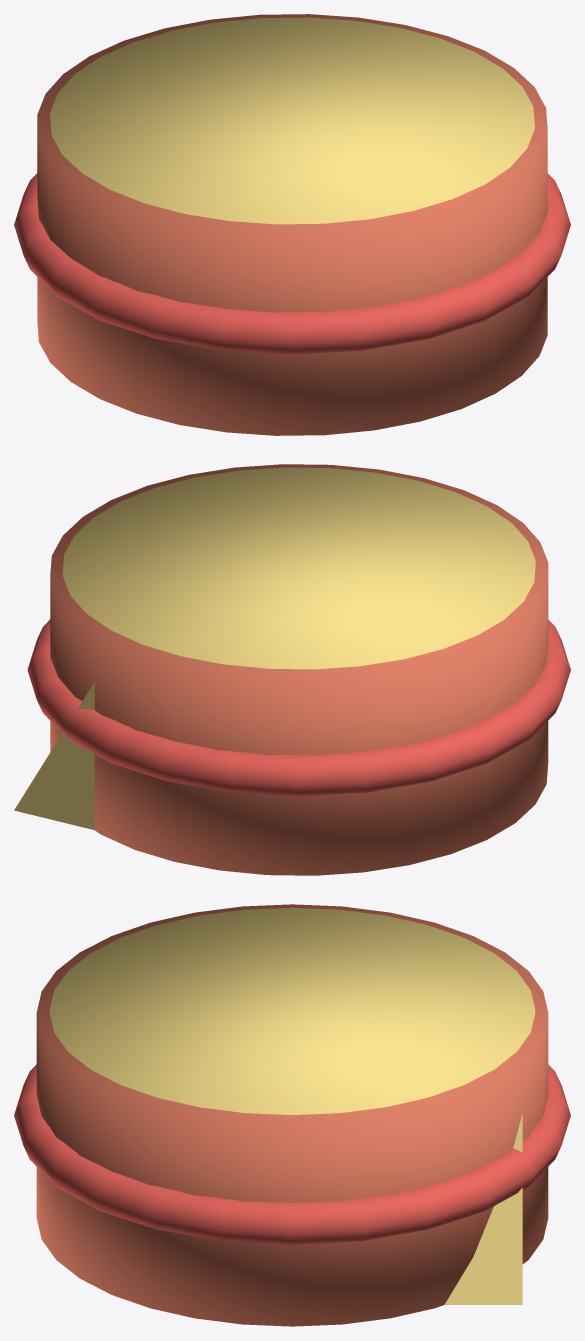
File: world_cheese_gouda.glb
3 renders of one model, top to bottom at view 1: azimuth 30°, elevation 25°; view 2: azimuth 150°, elevation 25°; view 3: azimuth 270°, elevation 25°, orthographic. The views are drawn at different scales.
Parts seen in each view (by area): view 1: world_cheese_gouda; view 2: world_cheese_gouda; view 3: world_cheese_gouda.
Part boxes in pixels (left/top/right/bottom): world_cheese_gouda: left=14, top=14, right=570, bottom=435; world_cheese_gouda: left=14, top=464, right=570, bottom=875; world_cheese_gouda: left=14, top=904, right=570, bottom=1326.
Size of the model in its own units: 0.98 by 0.404 by 0.98.
